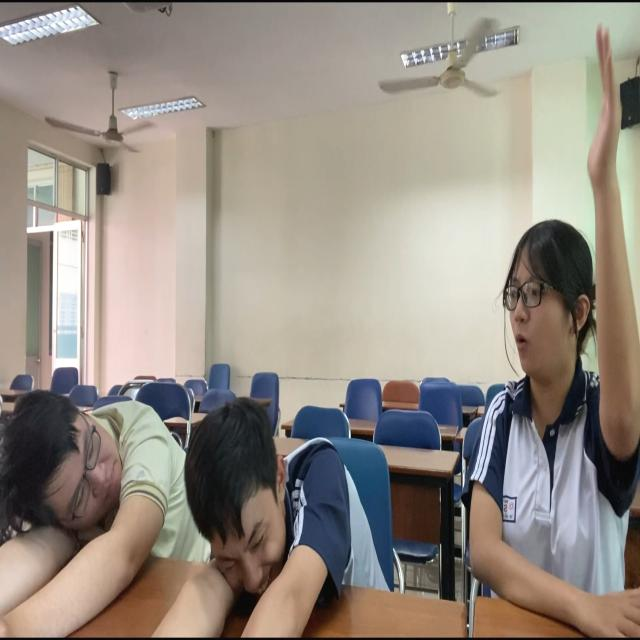raise_hand: (471, 27, 640, 640)
sleep: (188, 388, 402, 632), (1, 376, 181, 588)
